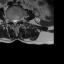CCS_normal: (14, 17, 16, 28)
LFS_normal: (18, 16, 21, 24)
LLS_normal: (16, 17, 18, 25)
RFS_normal: (10, 17, 12, 24)
RLS_normal: (12, 17, 14, 26)
